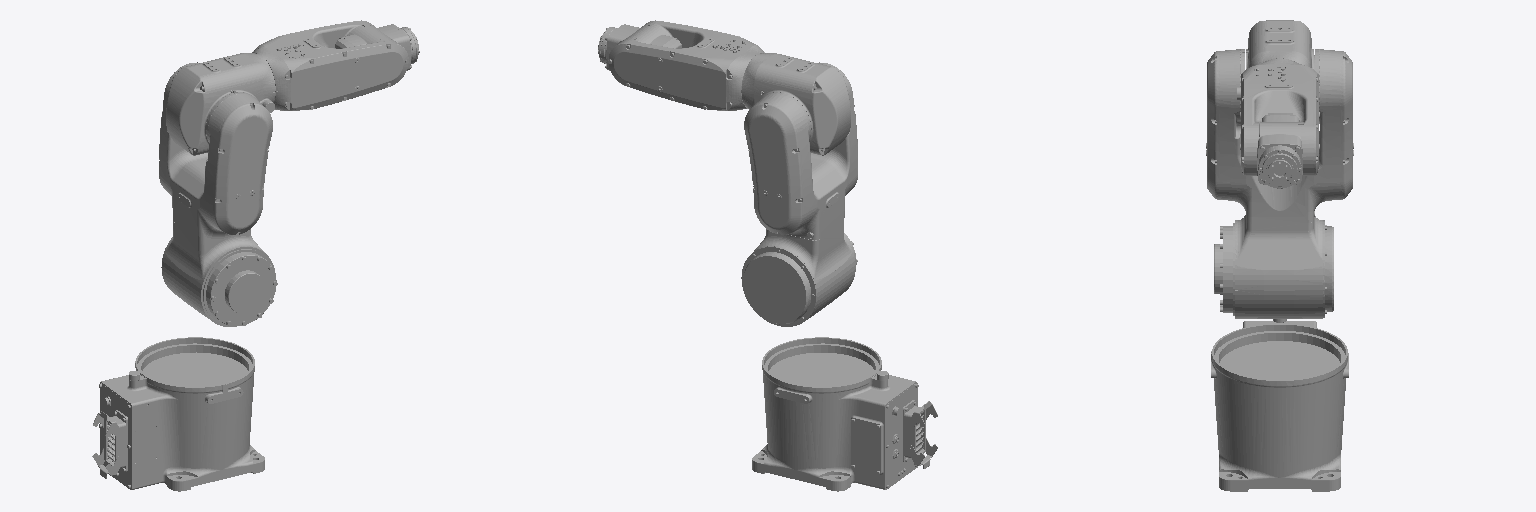
URDF robot description (thor10iw_700):
<?xml version="1.0" encoding="utf-8"?>
<!-- =================================================================================== -->
<!-- |    This document was autogenerated by xacro from ./src/thor10iw_700_description/urdf/thor10iw_700_robot.urdf.xacro | -->
<!-- |    EDITING THIS FILE BY HAND IS NOT RECOMMENDED                                 | -->
<!-- =================================================================================== -->
<robot name="thor10iw_700">
  <gazebo>
    <plugin filename="libgazebo_ros_control.so" name="ros_control">
      <!--robotNamespace>/</robotNamespace-->
      <!--robotSimType>gazebo_ros_control/DefaultRobotHWSim</robotSimType-->
      <!--legacyModeNS>true</legacyModeNS-->
    </plugin>
    <!--
    <plugin name="gazebo_ros_power_monitor_controller" filename="libgazebo_ros_power_monitor.so">
      <alwaysOn>true</alwaysOn>
      <updateRate>1.0</updateRate>
      <timeout>5</timeout>
      <powerStateTopic>power_state</powerStateTopic>
      <powerStateRate>10.0</powerStateRate>
      <fullChargeCapacity>87.78</fullChargeCapacity>     
      <dischargeRate>-474</dischargeRate>
      <chargeRate>525</chargeRate>
      <dischargeVoltage>15.52</dischargeVoltage>
      <chargeVoltage>16.41</chargeVoltage>
    </plugin>
-->
  </gazebo>
  <link name="base_link">
    <inertial>
      <origin rpy="0 0 0" xyz="0.0 0.0 0.0"/>
      <mass value="5.0"/>
      <inertia ixx="0.0" ixy="0.0" ixz="0.0" iyy="0.0" iyz="0.0" izz="0.0"/>
    </inertial>
    <visual>
      <origin rpy="0 0 0" xyz="0 0 0"/>
      <geometry>
        <mesh filename="../meshes/base_link.STL"/>
      </geometry>
      <material name="LightGrey">
        <color rgba="0.7 0.7 0.7 1"/>
      </material>
    </visual>
    <collision>
      <origin rpy="0 0 0" xyz="0 0 0"/>
      <geometry>
        <mesh filename="../meshes/base_link.STL"/>
      </geometry>
    </collision>
  </link>
  <joint name="joint1" type="revolute">
    <origin rpy="0.0 -0.0 0.0" xyz="0.0 -0.0 0.376"/>
    <parent link="base_link"/>
    <child link="link1"/>
    <axis xyz="0 0 1"/>
    <limit effort="436.0" lower="-6.2831853071" upper="6.2831853071" velocity="3.490658504"/>
    <dynamics damping="0.0" friction="0.1"/>
  </joint>
  <joint name="joint2" type="revolute">
    <origin rpy="-2.35619449019 -1.57079632679 -2.35619449019" xyz="0.05 -0.0 -0.0"/>
    <parent link="link1"/>
    <child link="link2"/>
    <axis xyz="0 0 1"/>
    <limit effort="459.0" lower="-3.124139361" upper="3.124139361" velocity="2.617993878"/>
    <dynamics damping="0.0" friction="0.1"/>
  </joint>
  <joint name="joint3" type="revolute">
    <origin rpy="0.0 -0.0 0.0" xyz="0.33 -0.0 0.0"/>
    <parent link="link2"/>
    <child link="link3"/>
    <axis xyz="0 0 1"/>
    <limit effort="207.0" lower="-2.967059728" upper="2.967059728" velocity="3.752457892"/>
    <dynamics damping="0.0" friction="0.1"/>
  </joint>
  <joint name="joint4" type="revolute">
    <origin rpy="-1.57079632679 1.02068239345e-11 3.14159265359" xyz="0.04 -0.3295 -1.15044310115e-15"/>
    <parent link="link3"/>
    <child link="link4"/>
    <axis xyz="0 0 1"/>
    <limit effort="91.0" lower="-6.2831853071" upper="6.2831853071" velocity="5.672320069"/>
    <dynamics damping="0.0" friction="0.1"/>
  </joint>
  <joint name="joint5" type="revolute">
    <origin rpy="-1.57079632679 1.02068239345e-11 3.14159265359" xyz="0.0 -0.0 -0.0"/>
    <parent link="link4"/>
    <child link="link5"/>
    <axis xyz="0 0 1"/>
    <limit effort="53.0" lower="-6.2831853071" upper="6.2831853071" velocity="7.155849933"/>
    <dynamics damping="0.0" friction="0.1"/>
  </joint>
  <joint name="joint6" type="revolute">
    <origin rpy="1.57079632679 -0.0 -0.0" xyz="0.0 -0.088 -3.07250357818e-16"/>
    <parent link="link5"/>
    <child link="link6"/>
    <axis xyz="0 0 1"/>
    <limit effort="53.0" lower="-6.2831853071" upper="6.2831853071" velocity="7.679448709"/>
    <dynamics damping="0.0" friction="0.1"/>
  </joint>
  <link name="link1">
    <inertial>
      <origin rpy="0 0 0" xyz="0.0 0.0 0.0"/>
      <mass value="0.0"/>
      <inertia ixx="0.0" ixy="0.0" ixz="0.0" iyy="0.0" iyz="0.0" izz="0.0"/>
    </inertial>
    <visual>
      <origin rpy="0 0 0" xyz="0 0 0"/>
      <geometry>
        <mesh filename="../meshes/link1.STL"/>
      </geometry>
      <material name="LightGrey">
        <color rgba="0.7 0.7 0.7 1"/>
      </material>
    </visual>
    <collision>
      <origin rpy="0 0 0" xyz="0 0 0"/>
      <geometry>
        <mesh filename="../meshes/link1.STL"/>
      </geometry>
    </collision>
  </link>
  <link name="link2">
    <inertial>
      <origin rpy="0 0 0" xyz="0.0 0.0 0.0"/>
      <mass value="0.0"/>
      <inertia ixx="0.0" ixy="0.0" ixz="0.0" iyy="0.0" iyz="0.0" izz="0.0"/>
    </inertial>
    <visual>
      <origin rpy="0 0 0" xyz="0 0 0"/>
      <geometry>
        <mesh filename="../meshes/link2.STL"/>
      </geometry>
      <material name="LightGrey">
        <color rgba="0.7 0.7 0.7 1"/>
      </material>
    </visual>
    <collision>
      <origin rpy="0 0 0" xyz="0 0 0"/>
      <geometry>
        <mesh filename="../meshes/link2.STL"/>
      </geometry>
    </collision>
  </link>
  <link name="link3">
    <inertial>
      <origin rpy="0 0 0" xyz="0.0 0.0 0.0"/>
      <mass value="0.0"/>
      <inertia ixx="0.0" ixy="0.0" ixz="0.0" iyy="0.0" iyz="0.0" izz="0.0"/>
    </inertial>
    <visual>
      <origin rpy="0 0 0" xyz="0 0 0"/>
      <geometry>
        <mesh filename="../meshes/link3.STL"/>
      </geometry>
      <material name="LightGrey">
        <color rgba="0.7 0.7 0.7 1"/>
      </material>
    </visual>
    <collision>
      <origin rpy="0 0 0" xyz="0 0 0"/>
      <geometry>
        <mesh filename="../meshes/link3.STL"/>
      </geometry>
    </collision>
  </link>
  <link name="link4">
    <inertial>
      <origin rpy="0 0 0" xyz="0.0 0.0 0.0"/>
      <mass value="0.0"/>
      <inertia ixx="0.0" ixy="0.0" ixz="0.0" iyy="0.0" iyz="0.0" izz="0.0"/>
    </inertial>
    <visual>
      <origin rpy="0 0 0" xyz="0 0 0"/>
      <geometry>
        <mesh filename="../meshes/link4.STL"/>
      </geometry>
      <material name="LightGrey">
        <color rgba="0.7 0.7 0.7 1"/>
      </material>
    </visual>
    <collision>
      <origin rpy="0 0 0" xyz="0 0 0"/>
      <geometry>
        <mesh filename="../meshes/link4.STL"/>
      </geometry>
    </collision>
  </link>
  <link name="link5">
    <inertial>
      <origin rpy="0 0 0" xyz="0.0 0.0 0.0"/>
      <mass value="0.0"/>
      <inertia ixx="0.0" ixy="0.0" ixz="0.0" iyy="0.0" iyz="0.0" izz="0.0"/>
    </inertial>
    <visual>
      <origin rpy="0 0 0" xyz="0 0 0"/>
      <geometry>
        <mesh filename="../meshes/link5.STL"/>
      </geometry>
      <material name="LightGrey">
        <color rgba="0.7 0.7 0.7 1"/>
      </material>
    </visual>
    <collision>
      <origin rpy="0 0 0" xyz="0 0 0"/>
      <geometry>
        <mesh filename="../meshes/link5.STL"/>
      </geometry>
    </collision>
  </link>
  <link name="link6">
    <inertial>
      <origin rpy="0 0 0" xyz="0.0 0.0 0.0"/>
      <mass value="0.0"/>
      <inertia ixx="0.0" ixy="0.0" ixz="0.0" iyy="0.0" iyz="0.0" izz="0.0"/>
    </inertial>
    <visual>
      <origin rpy="0 0 0" xyz="0 0 0"/>
      <geometry>
        <mesh filename="../meshes/link6.STL"/>
      </geometry>
      <material name="LightGrey">
        <color rgba="0.7 0.7 0.7 1"/>
      </material>
    </visual>
    <collision>
      <origin rpy="0 0 0" xyz="0 0 0"/>
      <geometry>
        <mesh filename="../meshes/link6.STL"/>
      </geometry>
    </collision>
  </link>
  <transmission name="joint1_trans">
    <type>transmission_interface/SimpleTransmission</type>
    <joint name="joint1">
      <hardwareInterface>hardware_interface/PositionJointInterface</hardwareInterface>
    </joint>
    <actuator name="joint1_motor">
      <mechanicalReduction>1</mechanicalReduction>
    </actuator>
  </transmission>
  <transmission name="joint2_trans">
    <type>transmission_interface/SimpleTransmission</type>
    <joint name="joint2">
      <hardwareInterface>hardware_interface/PositionJointInterface</hardwareInterface>
    </joint>
    <actuator name="joint2_motor">
      <mechanicalReduction>1</mechanicalReduction>
    </actuator>
  </transmission>
  <transmission name="joint3_trans">
    <type>transmission_interface/SimpleTransmission</type>
    <joint name="joint3">
      <hardwareInterface>hardware_interface/PositionJointInterface</hardwareInterface>
    </joint>
    <actuator name="joint3_motor">
      <mechanicalReduction>1</mechanicalReduction>
    </actuator>
  </transmission>
  <transmission name="joint4_trans">
    <type>transmission_interface/SimpleTransmission</type>
    <joint name="joint4">
      <hardwareInterface>hardware_interface/PositionJointInterface</hardwareInterface>
    </joint>
    <actuator name="joint4_motor">
      <mechanicalReduction>1</mechanicalReduction>
    </actuator>
  </transmission>
  <transmission name="joint5_trans">
    <type>transmission_interface/SimpleTransmission</type>
    <joint name="joint5">
      <hardwareInterface>hardware_interface/PositionJointInterface</hardwareInterface>
    </joint>
    <actuator name="joint5_motor">
      <mechanicalReduction>1</mechanicalReduction>
    </actuator>
  </transmission>
  <transmission name="joint6_trans">
    <type>transmission_interface/SimpleTransmission</type>
    <joint name="joint6">
      <hardwareInterface>hardware_interface/PositionJointInterface</hardwareInterface>
    </joint>
    <actuator name="joint6_motor">
      <mechanicalReduction>1</mechanicalReduction>
    </actuator>
  </transmission>
  <gazebo reference="link1">
    <selfCollide>True</selfCollide>
  </gazebo>
  <gazebo reference="link2">
    <selfCollide>True</selfCollide>
  </gazebo>
  <gazebo reference="link3">
    <selfCollide>True</selfCollide>
  </gazebo>
  <gazebo reference="link4">
    <selfCollide>True</selfCollide>
  </gazebo>
  <gazebo reference="link5">
    <selfCollide>True</selfCollide>
  </gazebo>
  <gazebo reference="link6">
    <selfCollide>True</selfCollide>
  </gazebo>
  <link name="world"/>
  <joint name="world_joint" type="fixed">
    <parent link="world"/>
    <child link="base_link"/>
    <origin rpy="0.0 0.0 0.0" xyz="0.0 0.0 0.0"/>
  </joint>
</robot>

--- Render facts (derived) ---
The picture shows the robot from 3 angles, left to right: view 1: azimuth 30°, elevation 25°; view 2: azimuth 150°, elevation 25°; view 3: azimuth 270°, elevation 25°; orthographic projection.
Model thor10iw_700 with 8 links and 7 joints (6 revolute, 1 fixed), rooted at world, posed all joints at 0.
Visible links, largest first — view 1: base_link, link2, link4, link3, link5; view 2: base_link, link2, link4, link3, link5; view 3: link2, base_link, link4, link3, link5, link6.
Boxes of the visible links, x1,y1,x2,y2 form: base_link: [92, 337, 264, 491]; link2: [159, 62, 277, 326]; link4: [252, 20, 408, 110]; link3: [166, 53, 275, 155]; link5: [335, 24, 411, 70]; base_link: [752, 337, 937, 491]; link2: [741, 62, 857, 326]; link4: [608, 20, 764, 110]; link3: [741, 53, 850, 155]; link5: [605, 24, 681, 70]; link2: [1206, 49, 1353, 318]; base_link: [1211, 319, 1348, 491]; link4: [1240, 58, 1319, 175]; link3: [1237, 20, 1314, 99]; link5: [1257, 113, 1302, 184]; link6: [1258, 145, 1301, 188].
Bounding box of the posed robot: 0.688 × 0.24 × 0.8015 m (x, y, z).
6 mesh visuals loaded from 7 distinct referenced files (6 binary STL); not drawn: 1 (reference not matched to a file when rendering).
